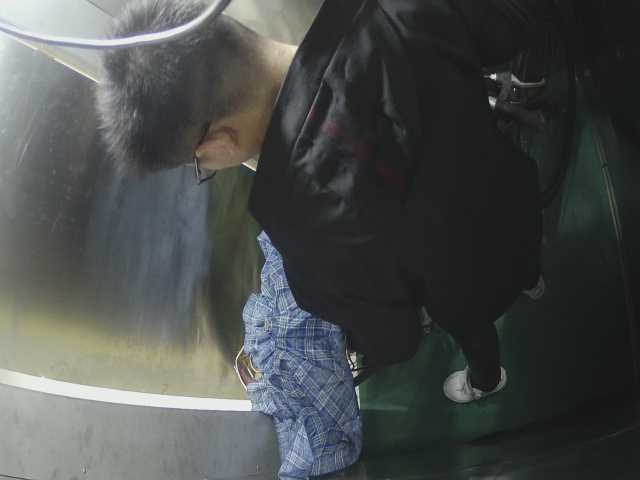person: (84, 7, 560, 402)
